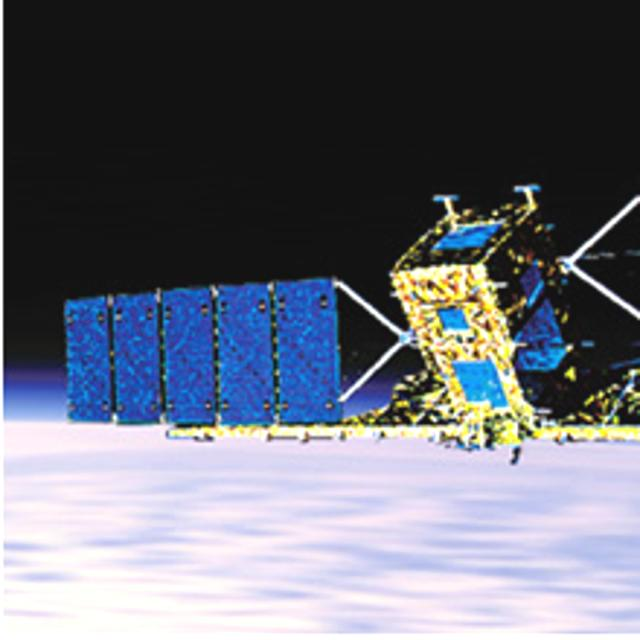satellite: (56, 178, 640, 465)
